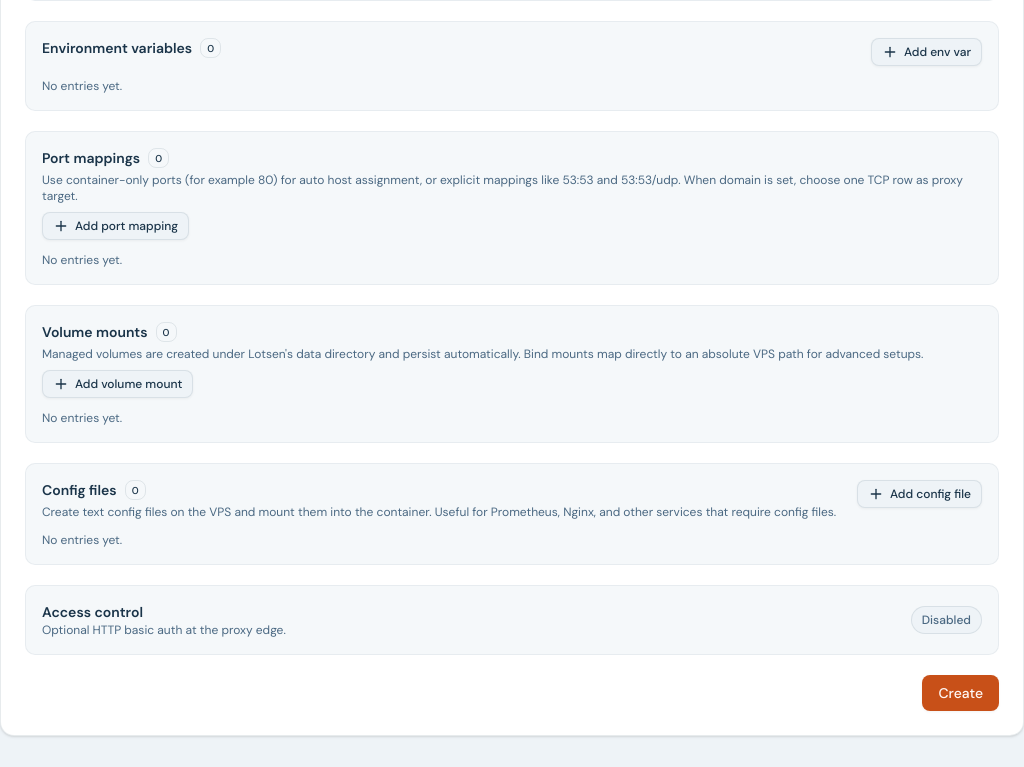
Test: CreateDeploymentForm › blocks empty submission and shows required field errors
(page scrolled)
Click the button "Create" at (961, 693), box x1=922 y1=675 x2=999 y2=711
(page scrolled)
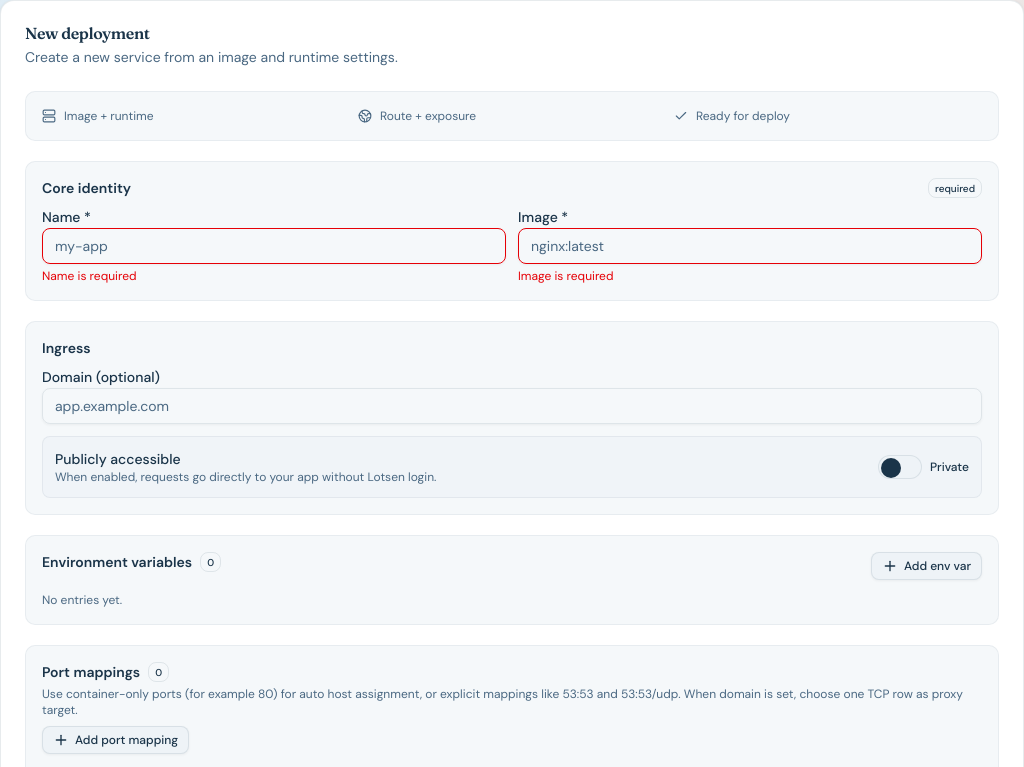
Expected: the text "Name is required" is shown, x1=42 y1=268 x2=136 y2=284
Expected: the text "Image is required" is shown, x1=518 y1=268 x2=614 y2=284
